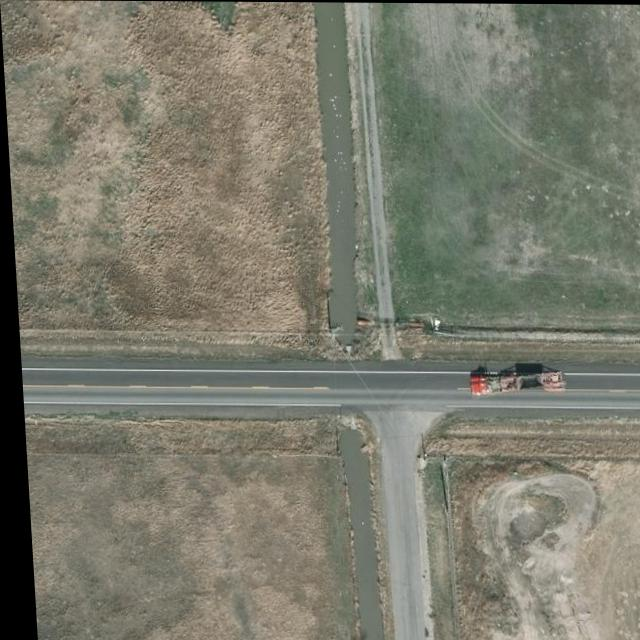vehicle: (464, 371, 562, 395)
